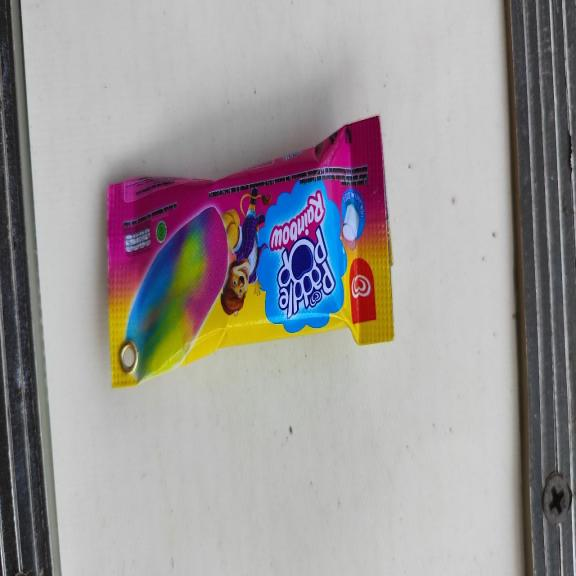Plastik: (106, 113, 396, 386)
